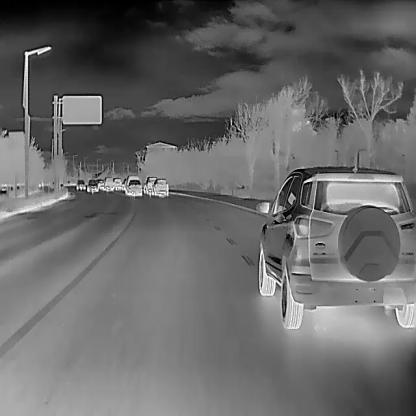car: (255, 160, 415, 329), (152, 178, 168, 196), (126, 179, 142, 195), (143, 176, 156, 194), (86, 178, 98, 192), (104, 176, 113, 190), (74, 177, 84, 189), (112, 176, 121, 188), (97, 177, 104, 189)
